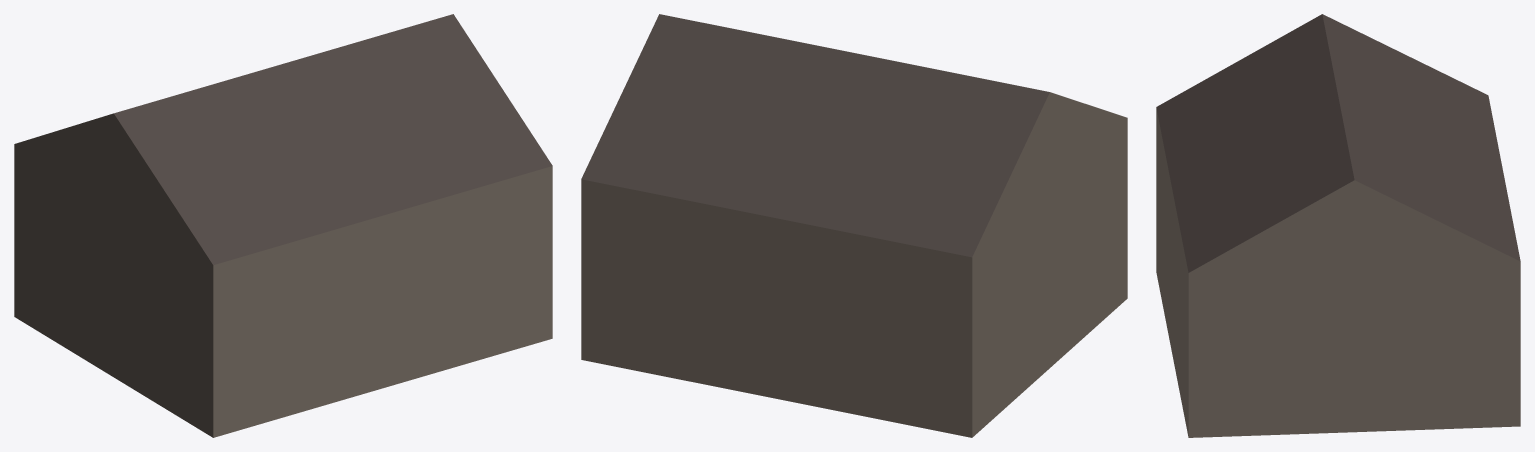
The picture shows the model from 3 angles, left to right: view 1: azimuth 30°, elevation 25°; view 2: azimuth 150°, elevation 25°; view 3: azimuth 270°, elevation 25°; orthographic projection. The views are drawn at different scales.
Visible parts, largest first — view 1: HP-w1200756567; view 2: HP-w1200756567; view 3: HP-w1200756567.
Part boxes in pixels (x1,y1,x2,y2): HP-w1200756567: (14, 14, 552, 437); HP-w1200756567: (581, 14, 1127, 437); HP-w1200756567: (1156, 14, 1520, 437).
Size of the model in its own units: 13.87 by 9.17 by 12.02.
